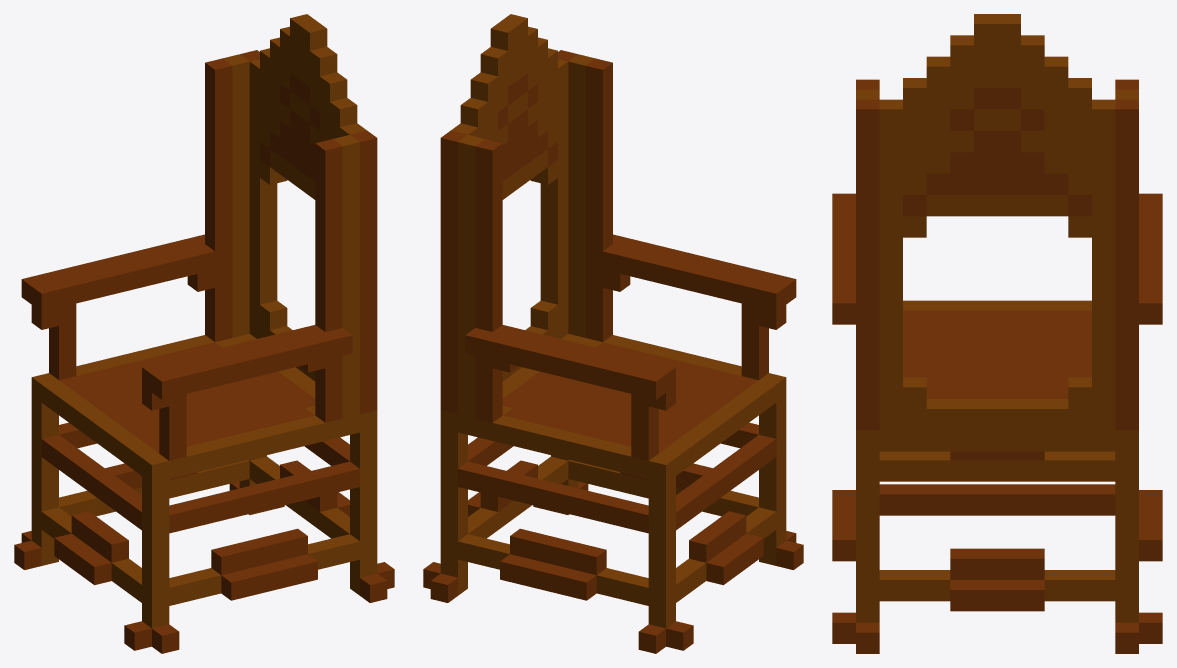
Rendered from chair2.1.obj.
3 views of the same model, side by side, from view 1: azimuth 30°, elevation 25°; view 2: azimuth 150°, elevation 25°; view 3: azimuth 270°, elevation 25° (orthographic). The views are drawn at different scales.
Size of the model in its own units: 1.5 by 2.9 by 1.4.
Materials: 1 (1 with a texture image).
